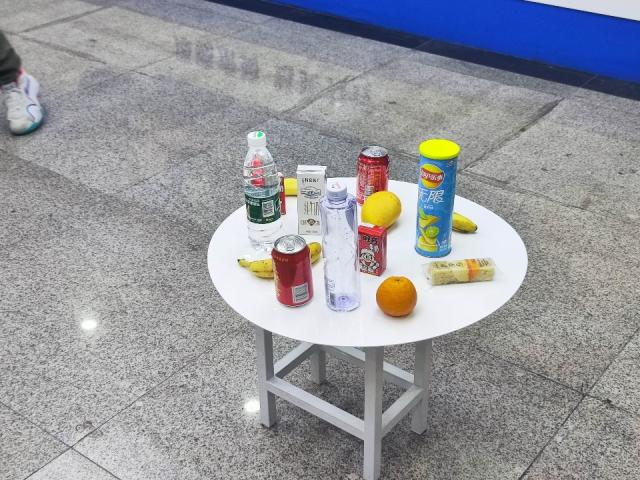Canned_drinks: (271, 235, 317, 313), (356, 139, 389, 196)
bottle: (319, 180, 361, 321)
cylinder: (417, 132, 453, 262)
drink_box: (295, 167, 330, 231)
